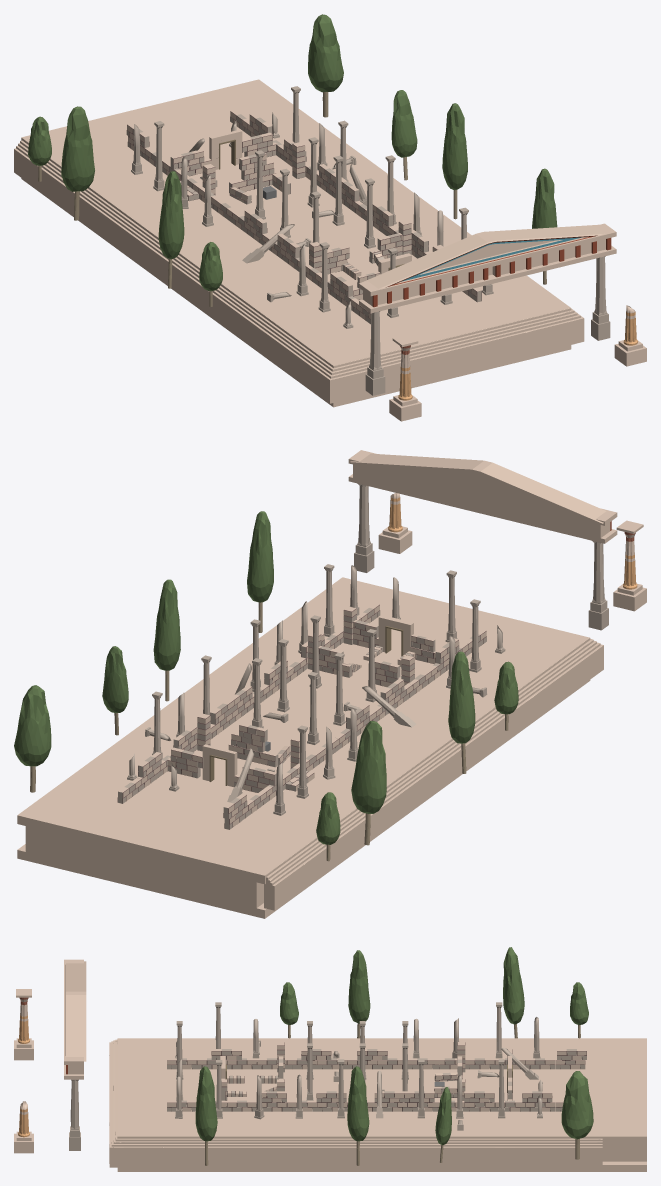
File: Temple_0.fbx
3 renders of one model, top to bottom at view 1: azimuth 30°, elevation 25°; view 2: azimuth 150°, elevation 25°; view 3: azimuth 270°, elevation 25°, orthographic. The views are drawn at different scales.
Parts seen in each view (by area): view 1: greek_roof_support_1_square__1_, greek_stairs_stone__3_, greek_stairs_stone__1_, greek_roof_1__1_, greek_roof_support_1__1_, greek_roof_support_1__2_, greek_tree_2__7_, greek_tree_2__1_, greek_tree_2__8_, greek_tree_2__4_, greek_tree_2__3_, greek_column_1__1_ (+7 smaller); view 2: greek_roof_support_1_square__1_, greek_stairs_stone__3_, greek_roof_1__1_, greek_roof_support_1__1_, greek_tree_2__7_, greek_roof_support_1__2_, greek_tree_2__1_, greek_tree_2__8_, greek_tree_2__4_, greek_tree_2__10_, greek_column_1__1_, greek_tree_2__3_ (+8 smaller); view 3: greek_roof_support_1_square__1_, greek_stairs_stone__2_, greek_roof_1__1_, greek_tree_2__1_, greek_tree_2__4_, greek_tree_2__10_, greek_tree_2__7_, greek_tree_2__8_, greek_column_1__1_, greek_stairs_stone__1_, greek_tree_2__3_, Column_04_Broken_02 (+16 smaller).
Boxes of the visible parts, left/top/right/bottom form: greek_roof_support_1_square__1_: left=21, top=79, right=571, bottom=407; greek_stairs_stone__3_: left=14, top=138, right=332, bottom=398; greek_stairs_stone__1_: left=335, top=308, right=575, bottom=401; greek_roof_1__1_: left=361, top=224, right=604, bottom=288; greek_roof_support_1__1_: left=359, top=261, right=493, bottom=313; greek_roof_support_1__2_: left=489, top=223, right=616, bottom=283; greek_tree_2__7_: left=61, top=106, right=94, bottom=220; greek_tree_2__1_: left=308, top=14, right=343, bottom=117; greek_tree_2__8_: left=158, top=171, right=184, bottom=288; greek_tree_2__4_: left=442, top=103, right=467, bottom=219; greek_tree_2__3_: left=391, top=90, right=417, bottom=180; greek_column_1__1_: left=389, top=334, right=421, bottom=421; greek_roof_support_1_square__1_: left=17, top=577, right=590, bottom=918; greek_stairs_stone__3_: left=264, top=639, right=597, bottom=910; greek_roof_1__1_: left=350, top=453, right=606, bottom=523; greek_roof_support_1__1_: left=477, top=493, right=617, bottom=543; greek_tree_2__7_: left=351, top=720, right=386, bottom=845; greek_roof_support_1__2_: left=348, top=450, right=476, bottom=512; greek_tree_2__1_: left=14, top=685, right=51, bottom=792; greek_tree_2__8_: left=448, top=651, right=475, bottom=773; greek_tree_2__4_: left=153, top=579, right=180, bottom=701; greek_tree_2__10_: left=247, top=511, right=273, bottom=632; greek_column_1__1_: left=613, top=520, right=646, bottom=611; greek_tree_2__3_: left=102, top=646, right=128, bottom=735; greek_roof_support_1_square__1_: left=117, top=1038, right=646, bottom=1171; greek_stairs_stone__2_: left=119, top=1137, right=602, bottom=1167; greek_roof_1__1_: left=65, top=961, right=86, bottom=1061; greek_tree_2__1_: left=561, top=1071, right=593, bottom=1159; greek_tree_2__4_: left=347, top=1066, right=369, bottom=1165; greek_tree_2__10_: left=195, top=1066, right=217, bottom=1165; greek_tree_2__7_: left=503, top=947, right=524, bottom=1038; greek_tree_2__8_: left=348, top=950, right=370, bottom=1038; greek_column_1__1_: left=14, top=989, right=33, bottom=1060; greek_stairs_stone__1_: left=109, top=1039, right=117, bottom=1163; greek_tree_2__3_: left=435, top=1087, right=451, bottom=1162; Column_04_Broken_02: left=14, top=1101, right=33, bottom=1153.
Bounding box in the file's own units: 3089 × 1465 × 6314.
